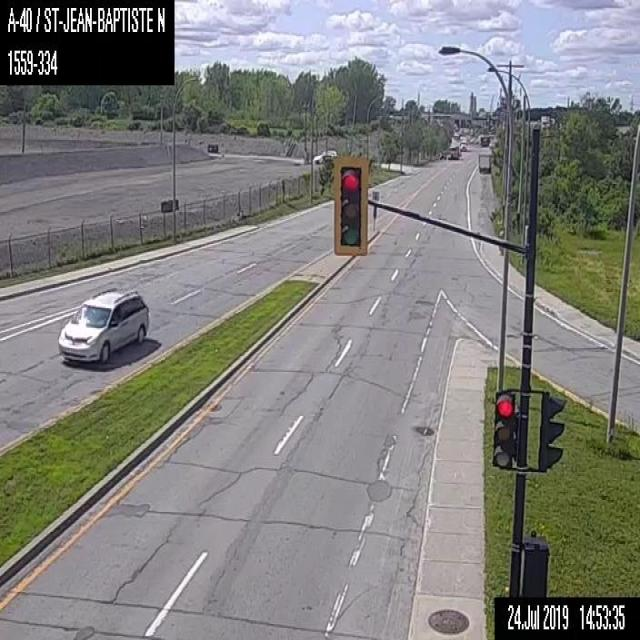vehicle: (56, 285, 149, 363), (477, 151, 490, 172), (459, 136, 466, 150)
